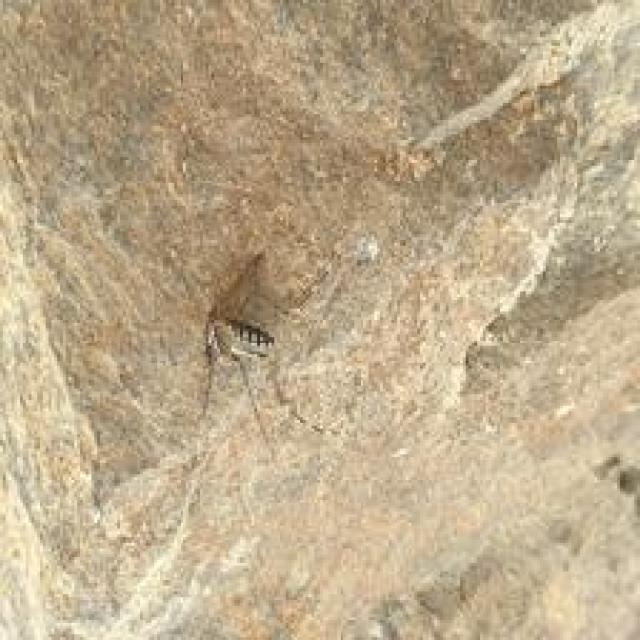Aedes albopictus: (196, 247, 330, 459)
